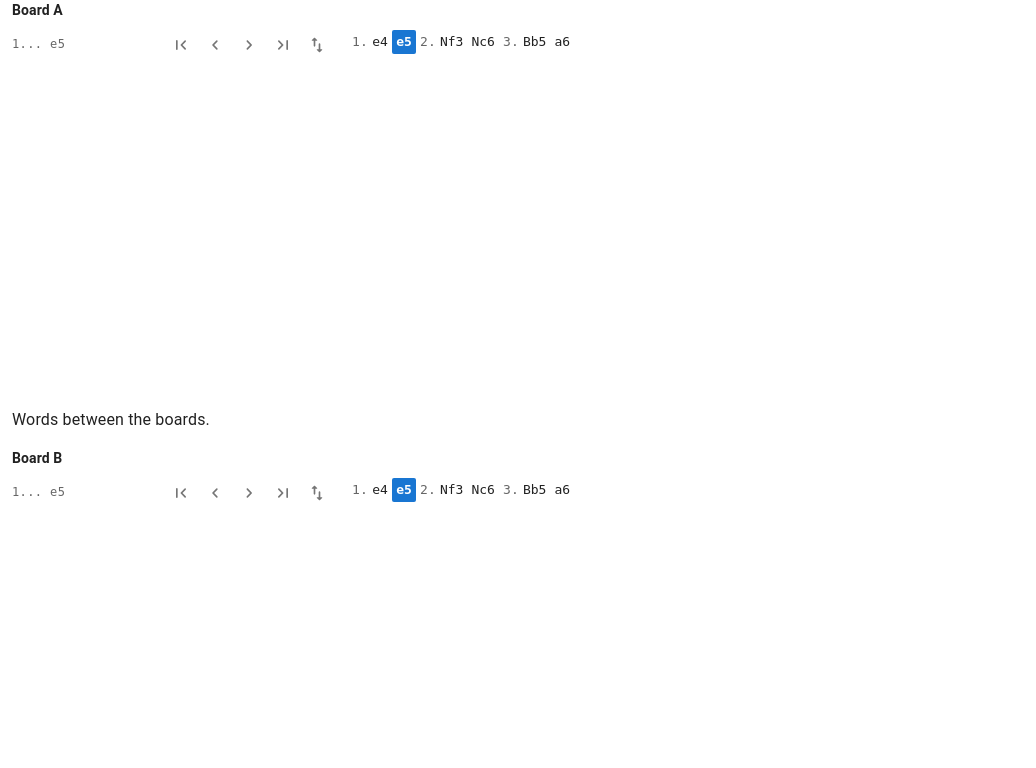
Test case: useBoardKeys — the keyboard on a page of boards (CTA-126) › steps only the board the reader last touched, and rings it
This screenshot has width=1036, height=768.
Step 1. Click the element "Board A" → (293, 31), box [12,2,574,60]
(page scrolled)
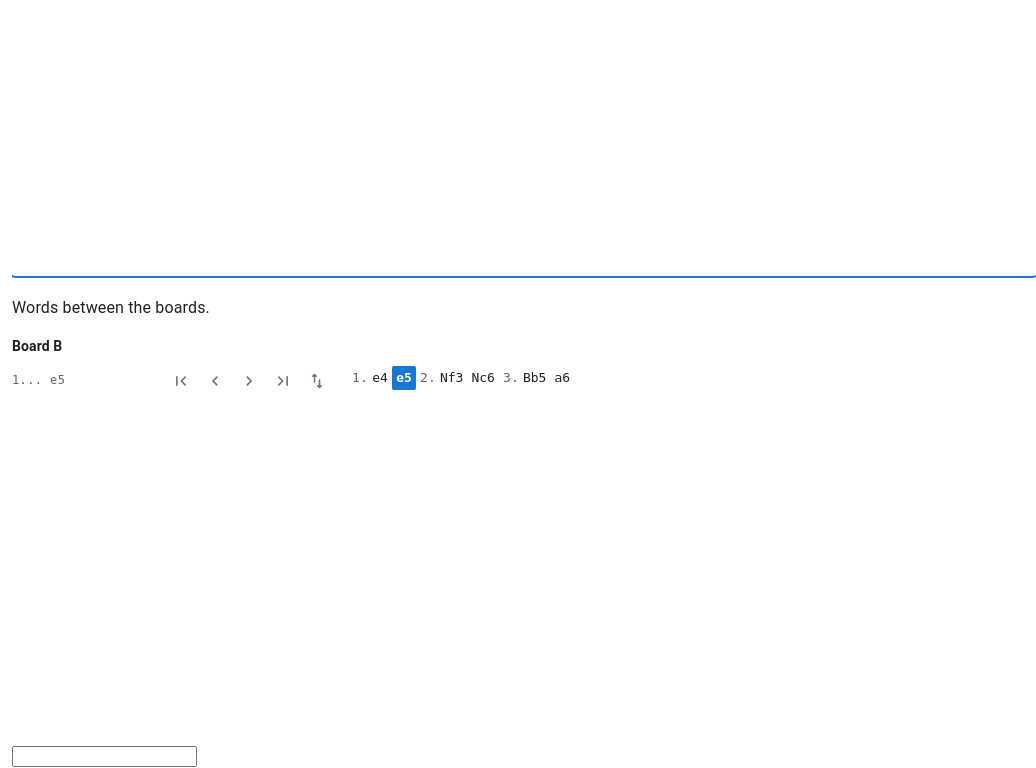
Step 2. Press Arrowright Arrowright
Expected: the text with test id "-on-screen" reads "1... e5", [12,373,65,387]
Touching the other board hands the keys over.
Step 3. Click the element "Board B" → (293, 367), box [12,338,574,396]
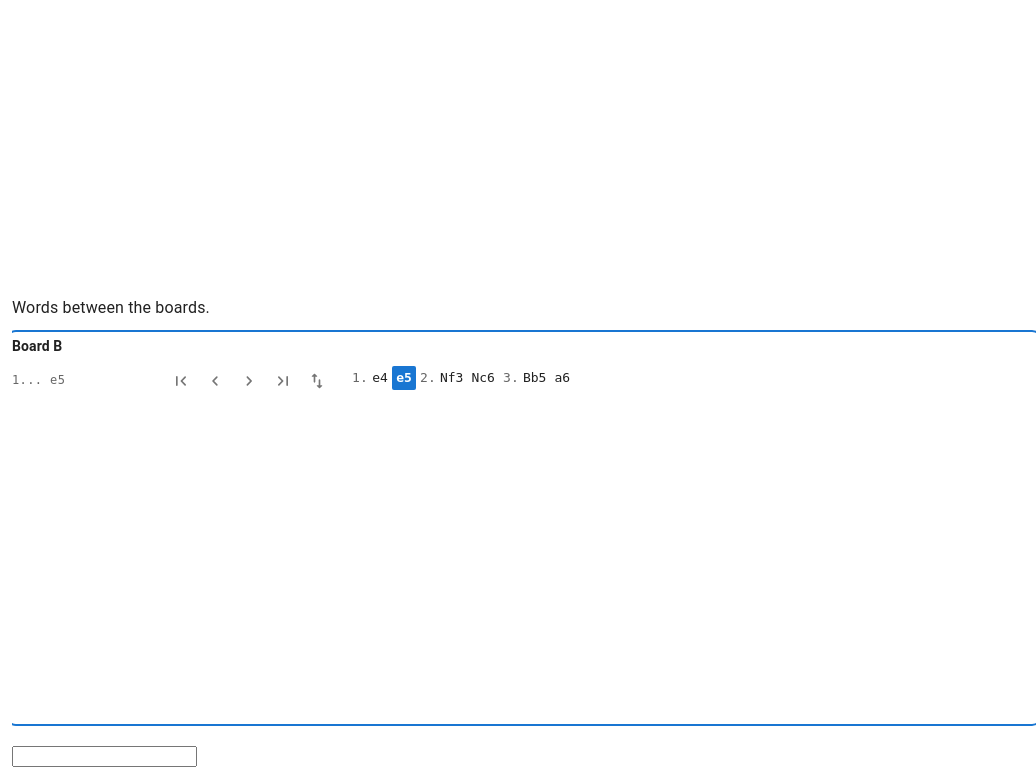
Step 4. Press Arrowleft
(page scrolled)
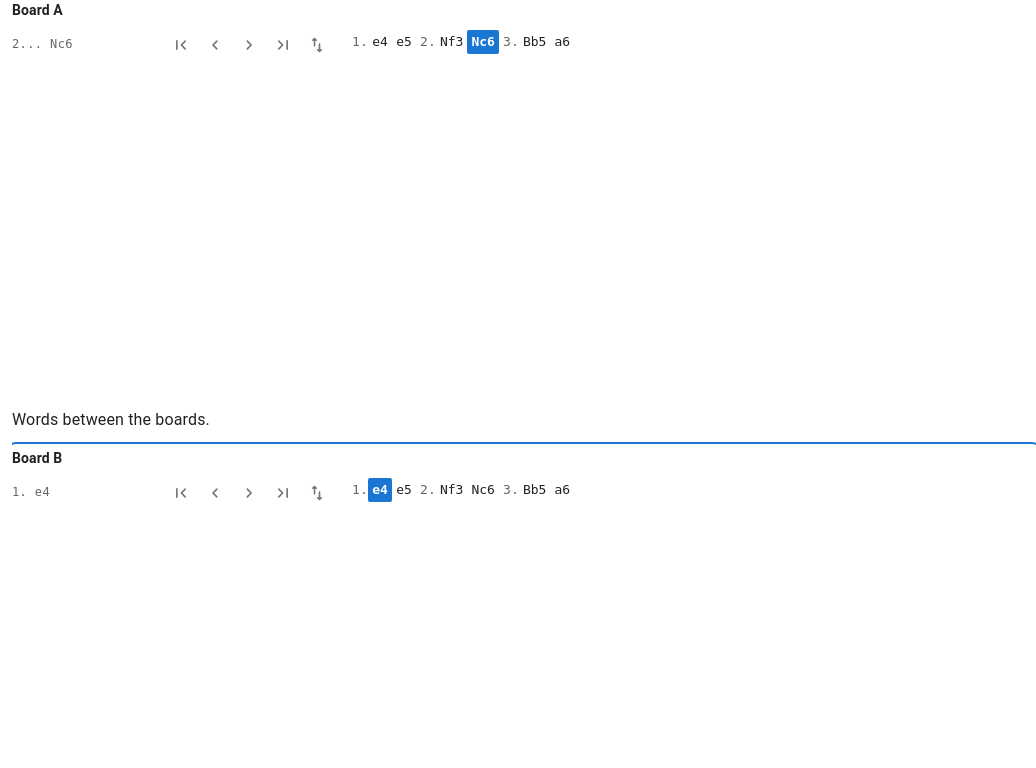
Result: the text with test id "-on-screen" reads "2... Nc6" at [12,37,73,51]
Result: the text with test id "-on-screen" reads "1. e4" at [12,485,50,499]
